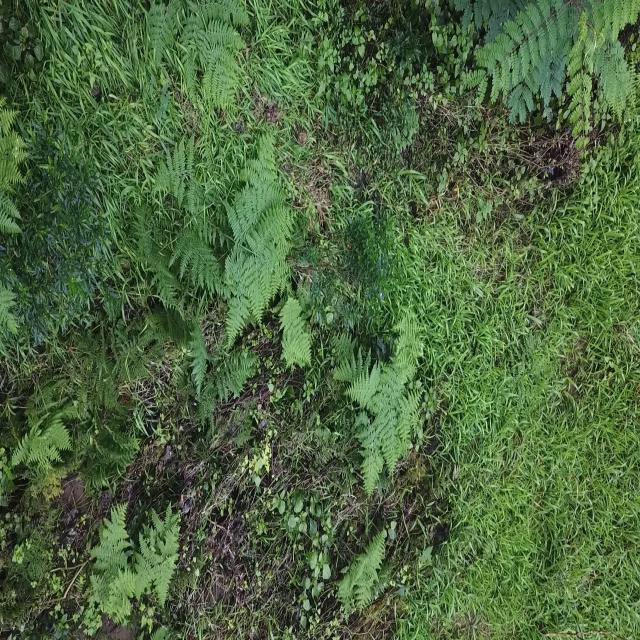Mysore-Thorn-Weed: (441, 0, 640, 160)
